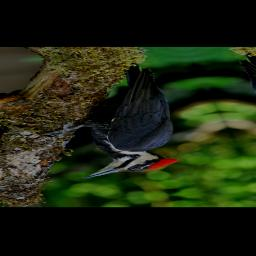Woodpecker: (9, 60, 218, 181)
